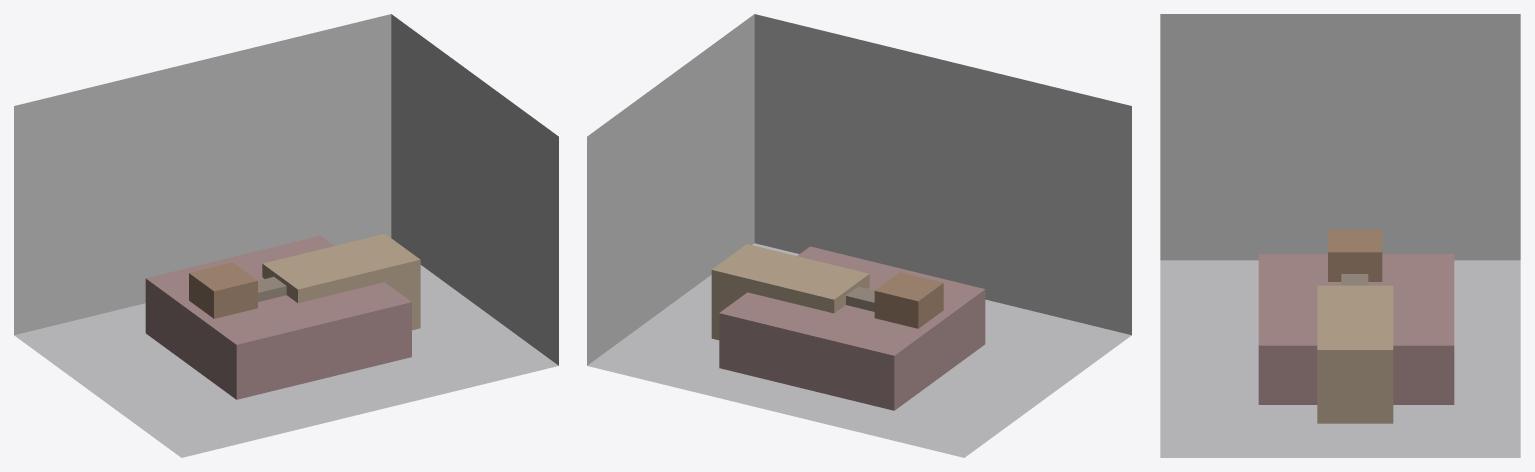
File: current_layout.glb
3 renders of one model, left to right at view 1: azimuth 30°, elevation 25°; view 2: azimuth 150°, elevation 25°; view 3: azimuth 270°, elevation 25°, orthographic. The views are drawn at different scales.
Parts seen in each view (by area): view 1: room, bed, desk, chair, suitcase; view 2: room, bed, desk, chair, suitcase; view 3: room, bed, desk, chair.
Boxes of the visible parts, x1,y1,x2,y2 form: room: (14, 14, 558, 457); bed: (145, 235, 411, 399); desk: (262, 234, 420, 330); chair: (189, 262, 257, 318); suitcase: (258, 277, 286, 301); room: (587, 14, 1131, 457); bed: (719, 246, 985, 410); desk: (711, 244, 869, 340); chair: (874, 272, 943, 328); suitcase: (846, 286, 874, 311); room: (1160, 14, 1520, 457); bed: (1258, 254, 1454, 404); desk: (1317, 285, 1393, 423); chair: (1328, 229, 1382, 281).
Size of the model in its own units: 4.31 by 2.5 by 3.31.
